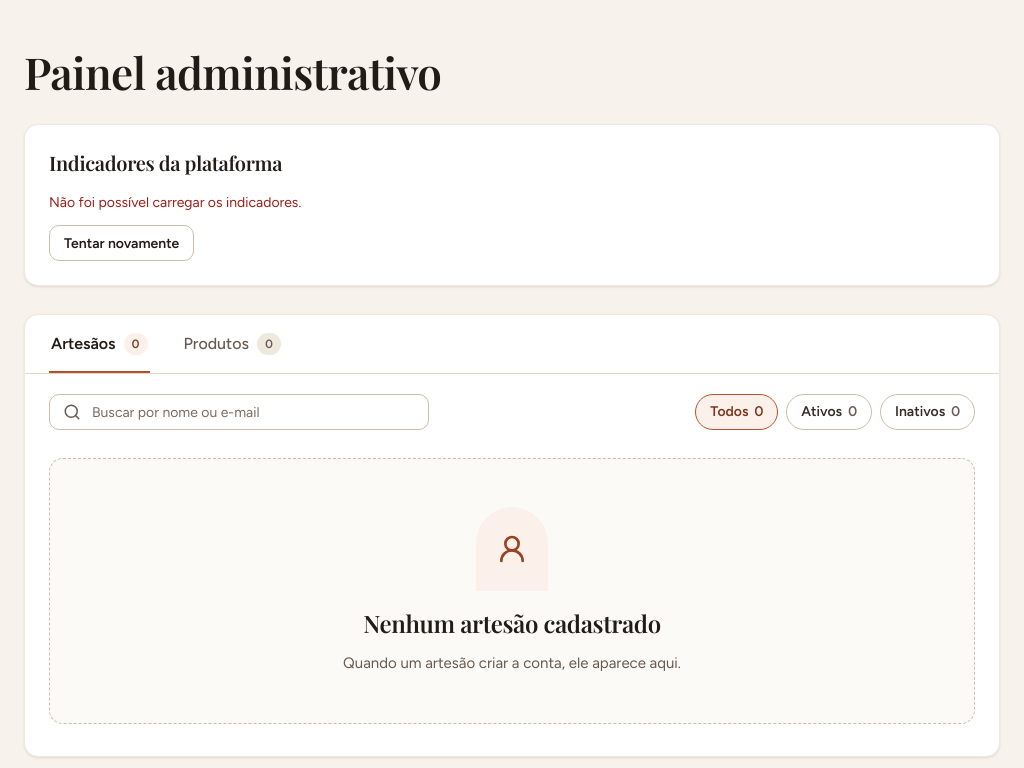
Test: permite tentar novamente depois do erro
The width and height of the screenshot is (1024, 768).
expect the message reads "Não foi possível carregar os indicadores.": met, box [49,194,301,211]
Click the button "Tentar novamente": (122, 243) [49,225,194,261]
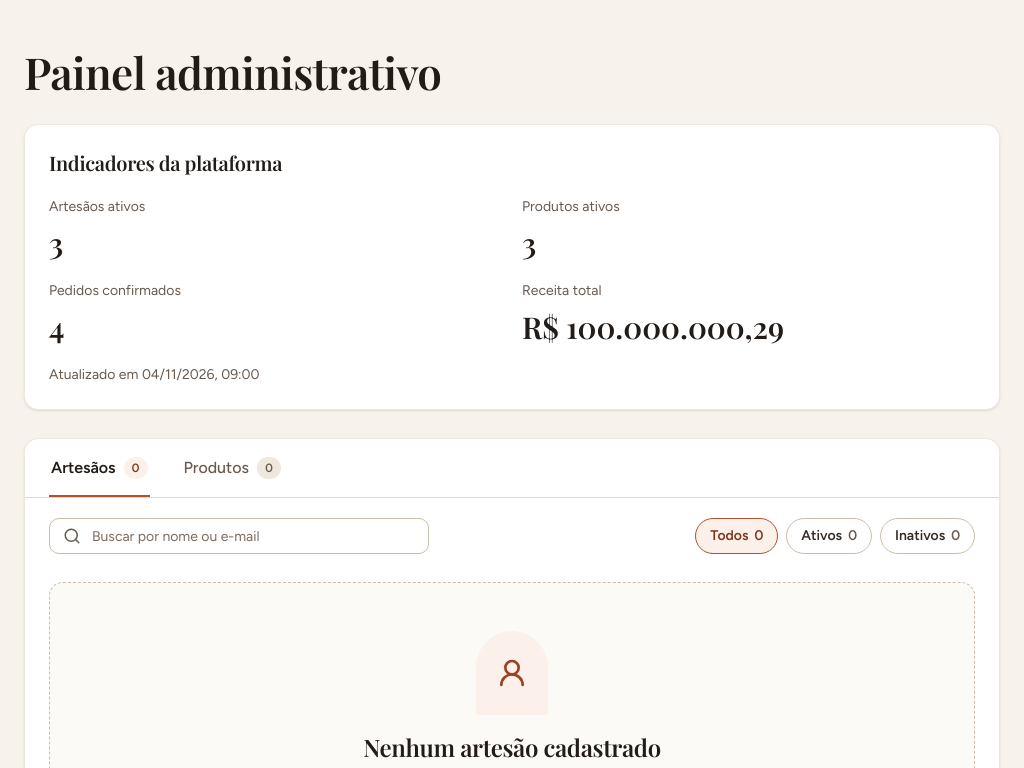
expect the text "R$ 100.000.000,29" is shown: met, box [522,307,784,347]
